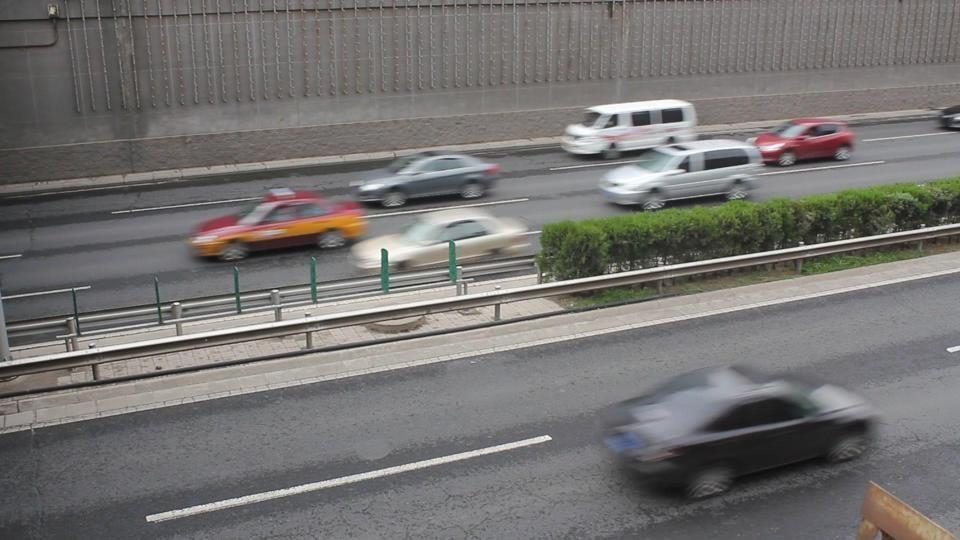car: (593, 363, 883, 501), (598, 138, 764, 212), (185, 194, 367, 260), (352, 211, 540, 272), (558, 98, 701, 159), (349, 152, 502, 209), (752, 118, 857, 167), (938, 106, 960, 131)
